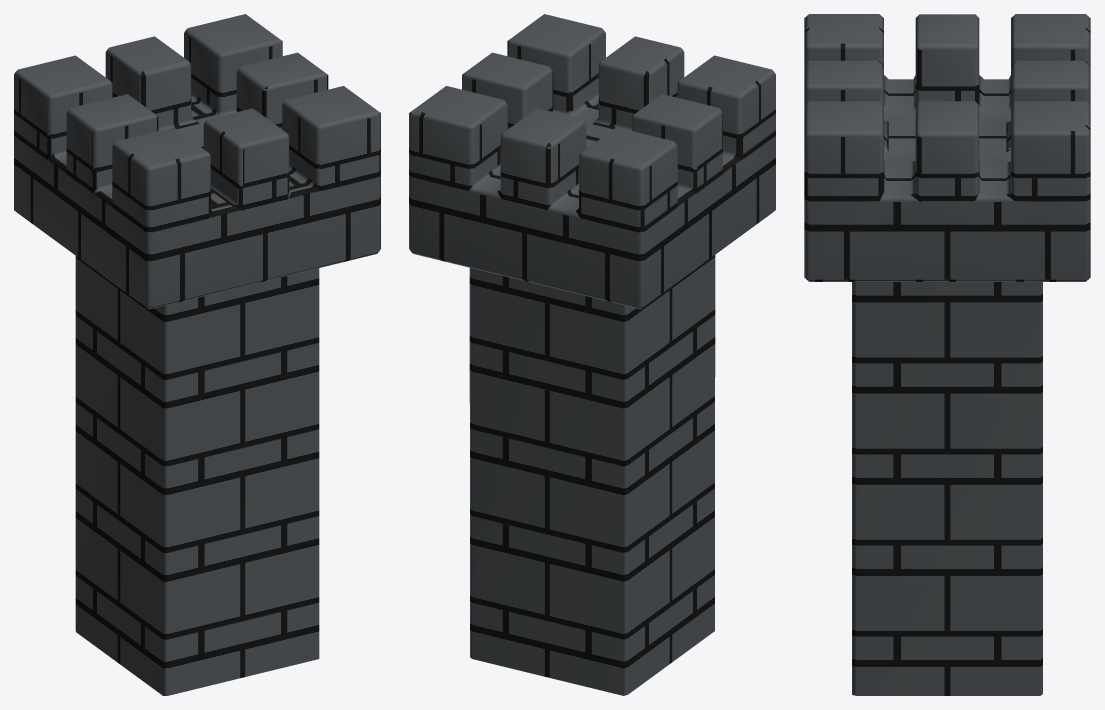
File: tower.fbx
3 renders of one model, left to right at view 1: azimuth 30°, elevation 25°; view 2: azimuth 150°, elevation 25°; view 3: azimuth 270°, elevation 25°, orthographic. The views are drawn at different scales.
Visible parts, largest first — view 1: Cube; view 2: Cube; view 3: Cube.
Boxes of the visible parts, box(x1,y1,x2,y2) form: Cube: box(14, 14, 380, 695); Cube: box(409, 14, 775, 695); Cube: box(804, 14, 1090, 695).
Bounding box in the file's own units: 300 × 675 × 300.
